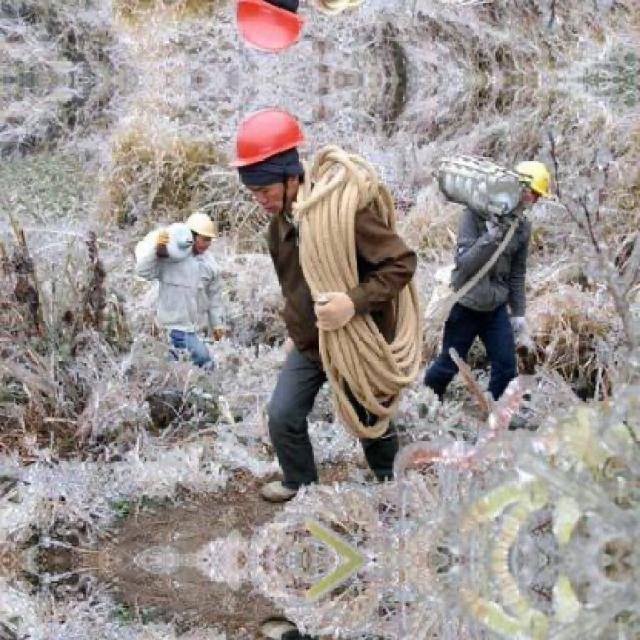con casco: (230, 91, 320, 188), (213, 0, 316, 58), (479, 151, 568, 201)
